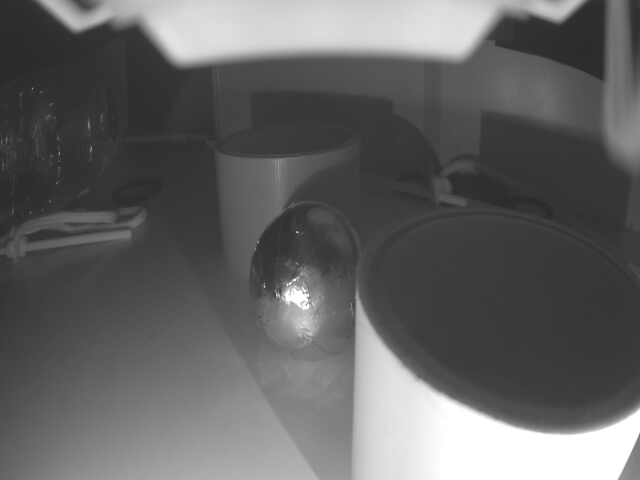Live: (245, 201, 362, 358)
